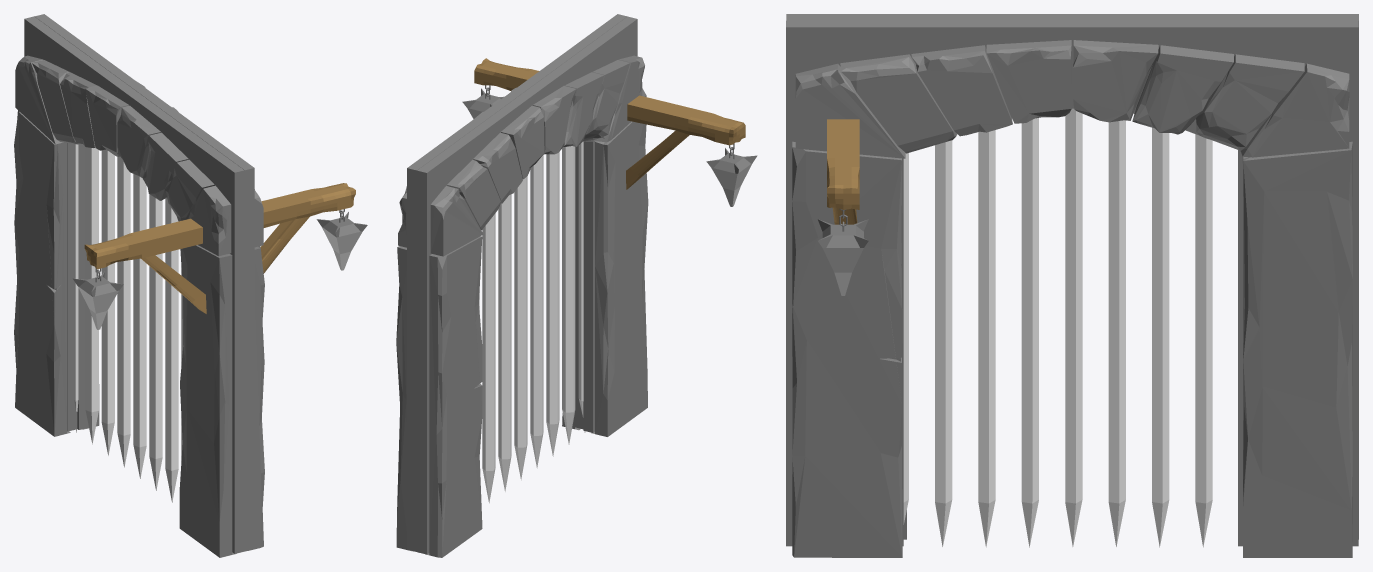
Rendered from DuneonDoor.fbx.
3 renders of one model, left to right at view 1: azimuth 30°, elevation 25°; view 2: azimuth 150°, elevation 25°; view 3: azimuth 270°, elevation 25°, orthographic. The views are drawn at different scales.
Parts seen in each view (by area): view 1: Cube.001, Cylinder, Wall Brick 1.001, Wall Brick 1, Lamp.001, Lamp, Cube; view 2: Cube.001, Cylinder, Wall Brick 1.001, Wall Brick 1, Lamp.001, Cube, Lamp; view 3: Cube, Cylinder, Wall Brick 1, Lamp, Wall Brick 1.001.
Part boxes in pixels (left/top/right/bottom): Cube.001: left=14, top=55, right=236, bottom=557; Cylinder: left=74, top=144, right=183, bottom=502; Wall Brick 1.001: left=24, top=16, right=244, bottom=553; Wall Brick 1: left=34, top=14, right=254, bottom=551; Lamp.001: left=73, top=218, right=206, bottom=329; Lamp: left=260, top=183, right=367, bottom=273; Cube: left=82, top=82, right=264, bottom=550; Cube.001: left=425, top=55, right=648, bottom=557; Cylinder: left=479, top=141, right=585, bottom=503; Wall Brick 1.001: left=417, top=16, right=637, bottom=554; Wall Brick 1: left=407, top=14, right=627, bottom=551; Lamp.001: left=626, top=95, right=757, bottom=206; Cube: left=396, top=87, right=580, bottom=551; Lamp: left=462, top=58, right=539, bottom=118; Cube: left=792, top=40, right=1352, bottom=557; Cylinder: left=903, top=108, right=1212, bottom=547; Wall Brick 1: left=786, top=20, right=1358, bottom=546; Lamp: left=818, top=119, right=868, bottom=295; Wall Brick 1.001: left=786, top=14, right=1358, bottom=539.
Bounding box in the file's own units: 759 × 1015 × 1000.
